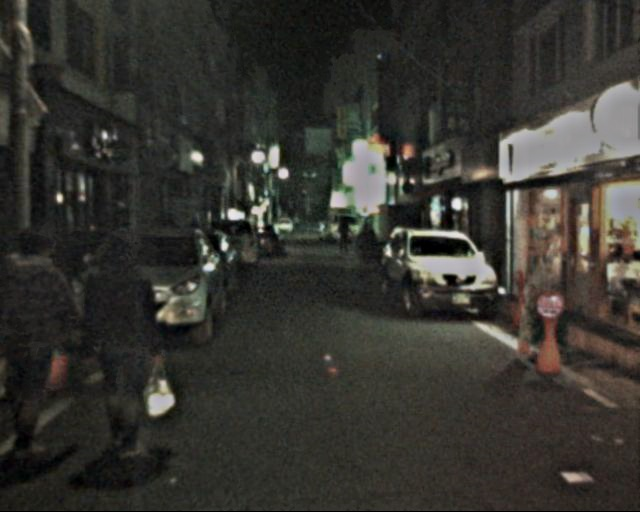person: (73, 228, 171, 466), (336, 217, 354, 256)
